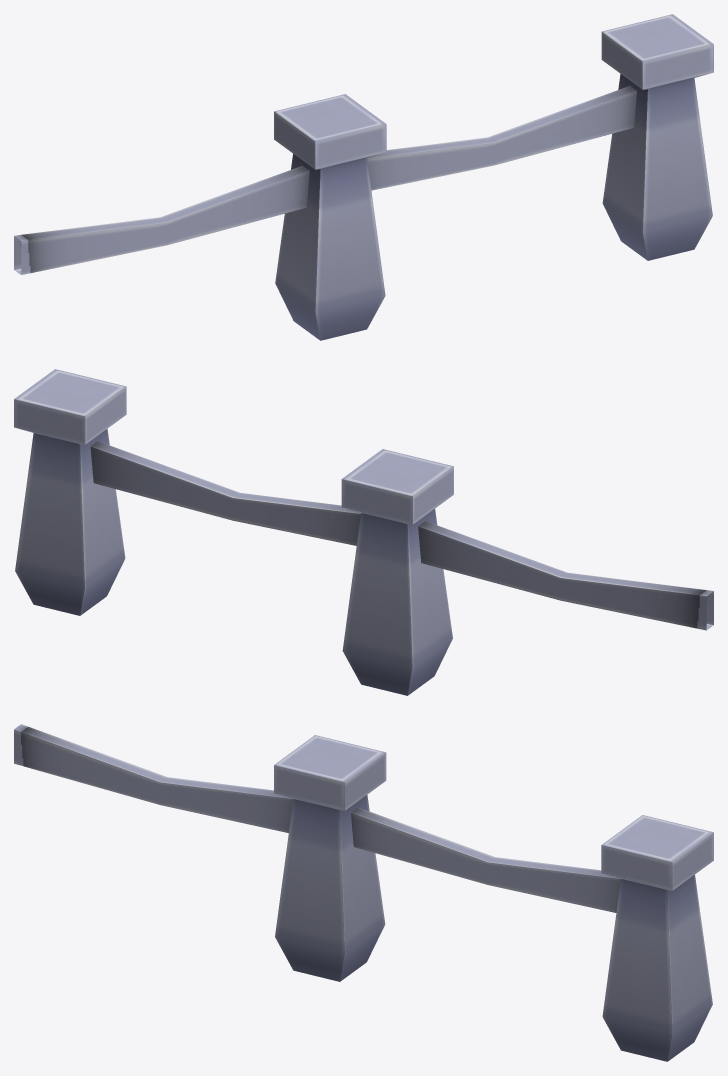
Rendered from Barn_Fence.FBX.
The picture shows the model from 3 angles, top to bottom: view 1: azimuth 30°, elevation 25°; view 2: azimuth 150°, elevation 25°; view 3: azimuth 330°, elevation 25°; orthographic projection.
Parts seen in each view (by area): view 1: Barn_Fence; view 2: Barn_Fence; view 3: Barn_Fence.
Part boxes in pixels (left/top/right/bottom): Barn_Fence: left=14, top=14, right=713, bottom=340; Barn_Fence: left=14, top=369, right=713, bottom=695; Barn_Fence: left=14, top=724, right=713, bottom=1061.
Size of the model in its own units: 185 by 54.28 by 19.51.
